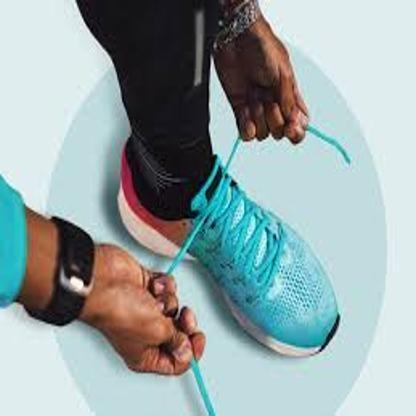not trash: (116, 120, 341, 361)
